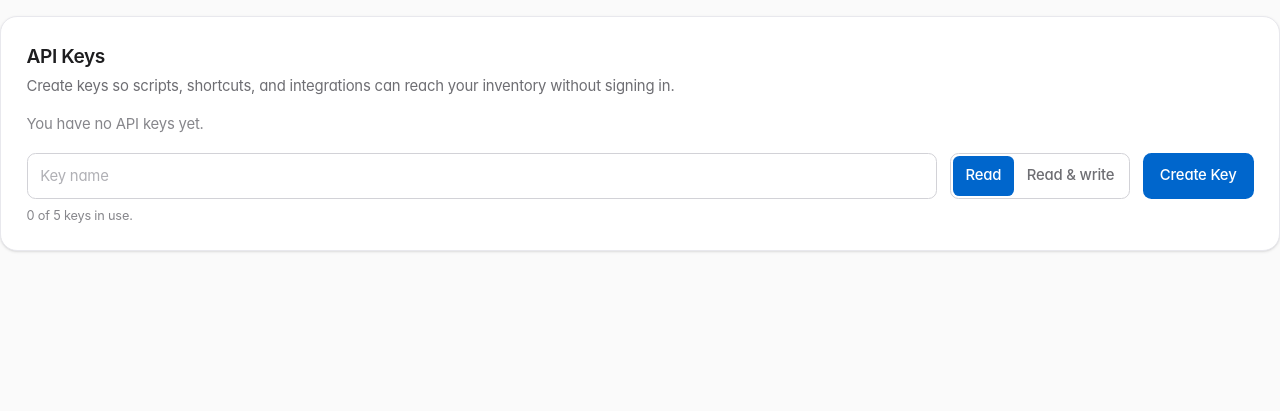
Scenario: ApiKeysSettings › creating a key › shows the plaintext key exactly once, after a successful create
The image size is (1280, 411).
Expected: the text "You have no API keys yet." is shown, x1=26 y1=115 x2=204 y2=133
Step 1. Type "ha" into the field named "new key name" → (482,176), box x1=26 y1=152 x2=937 y2=199
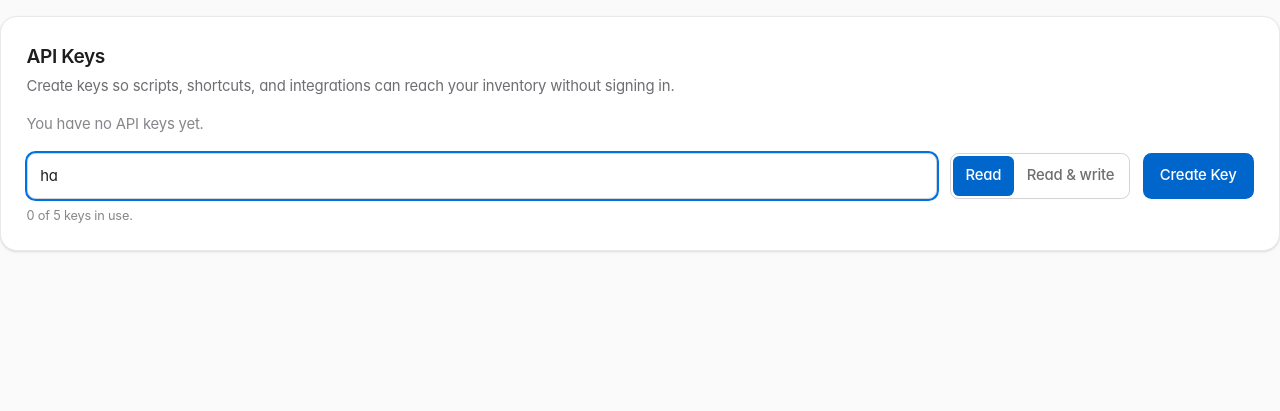
Step 2. Click the button "Create Key" → (1198,176), box x1=1143 y1=152 x2=1254 y2=199
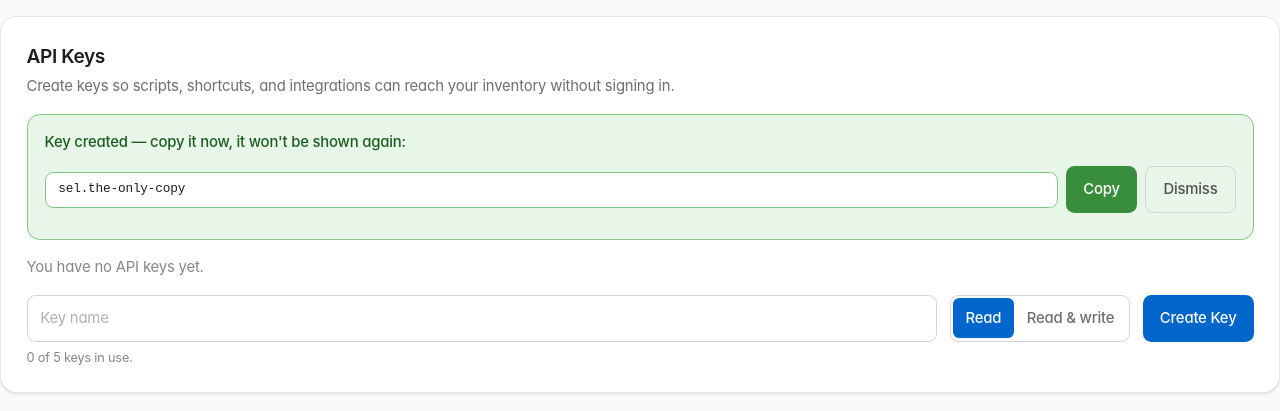
Result: the element with test id "api-key-secret" shows "copy it now" at x1=44 y1=133 x2=406 y2=151
Result: the field showing "sel.the-only-copy" is shown at x1=44 y1=172 x2=1058 y2=208
